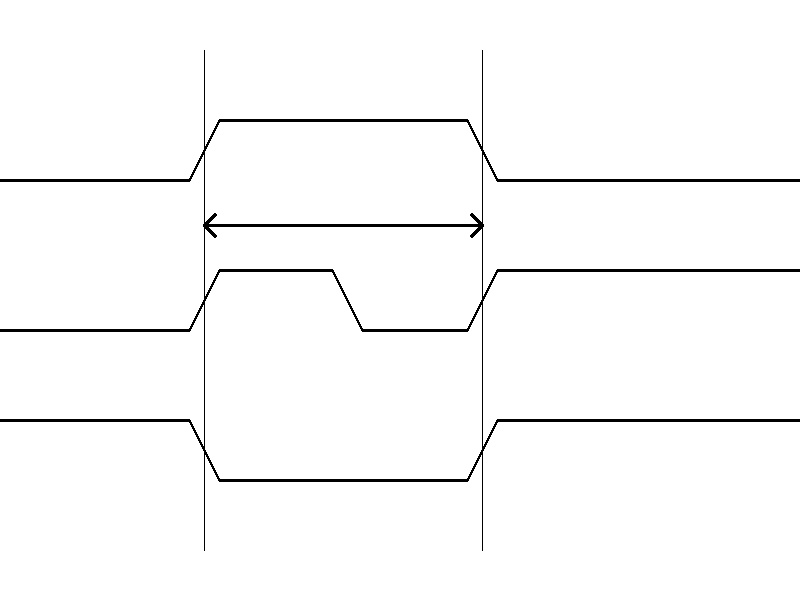double_arrow: (204, 210, 482, 240)
